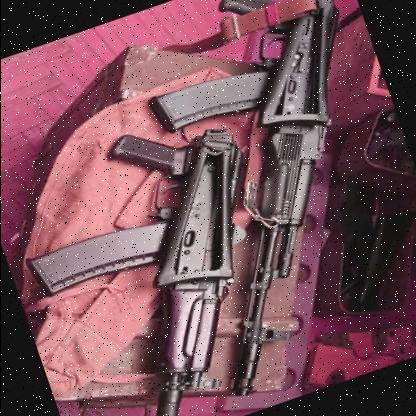rifle: (103, 0, 416, 397), (5, 106, 324, 416)
